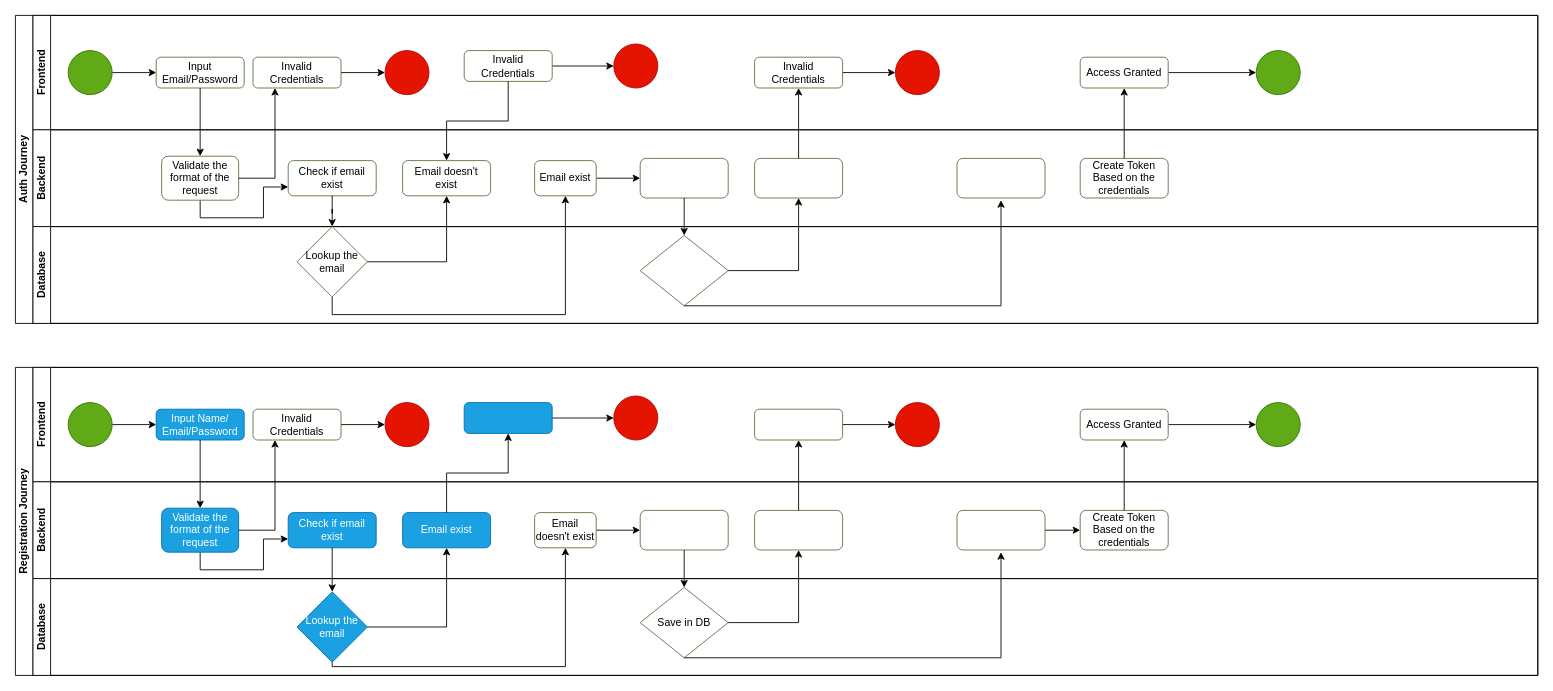
Image size: 1553x691. Some labels were removed from this diagram. Each missing label, with the centre of its shape:
"Add Email/Password name" goes at point 683,530.
"Error Generated" goes at point 798,530.
"Generate Credentials" goes at point 1000,530.
"Invalidate Email/Password combination" goes at point 798,178.
"Please Login" goes at point 507,417.
"Server Error" goes at point 798,424.
"Valid Combination" goes at point 1000,178.
"Validate Combinations" goes at point 683,270.
"Validate Email/Password combination" goes at point 683,178.
